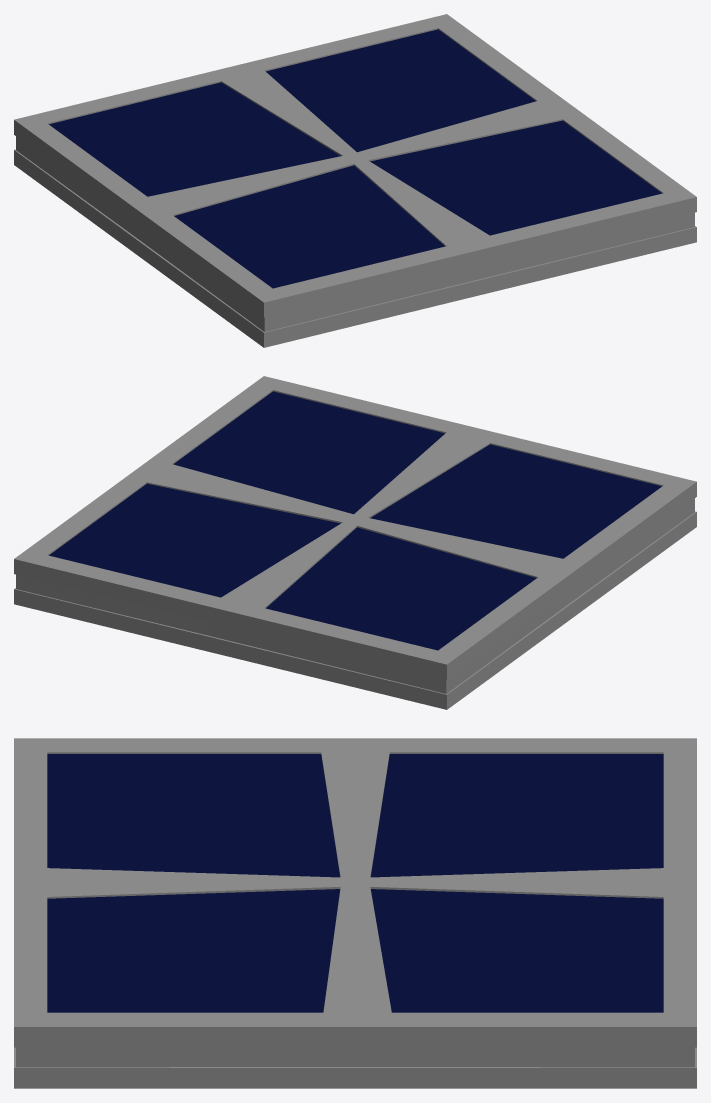
File: MOD_PlatformChucky_500500.FBX
3 views of the same model, one above another, from view 1: azimuth 30°, elevation 25°; view 2: azimuth 150°, elevation 25°; view 3: azimuth 270°, elevation 25° (orthographic). The views are drawn at different scales.
Visible parts, largest first — view 1: MOD_PlatformChucky_500500; view 2: MOD_PlatformChucky_500500; view 3: MOD_PlatformChucky_500500.
Part boxes in pixels (bbox=[...]): MOD_PlatformChucky_500500: bbox=[14, 14, 696, 347]; MOD_PlatformChucky_500500: bbox=[14, 376, 696, 709]; MOD_PlatformChucky_500500: bbox=[14, 738, 696, 1088].
Size of the model in its own units: 500 by 50.63 by 500.
